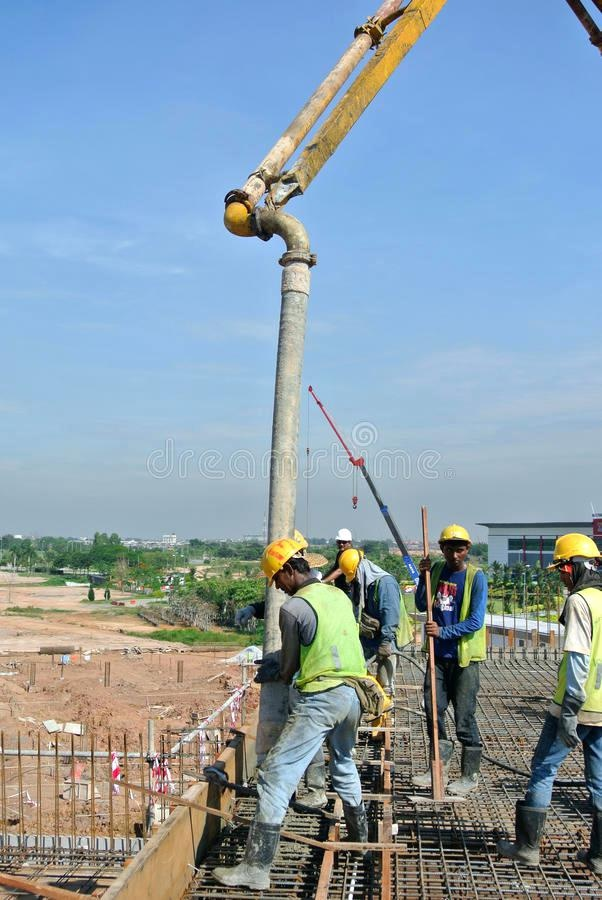white: (335, 527, 352, 550)
yellow: (260, 538, 310, 594), (552, 533, 600, 585), (438, 525, 472, 565), (341, 548, 369, 583)
